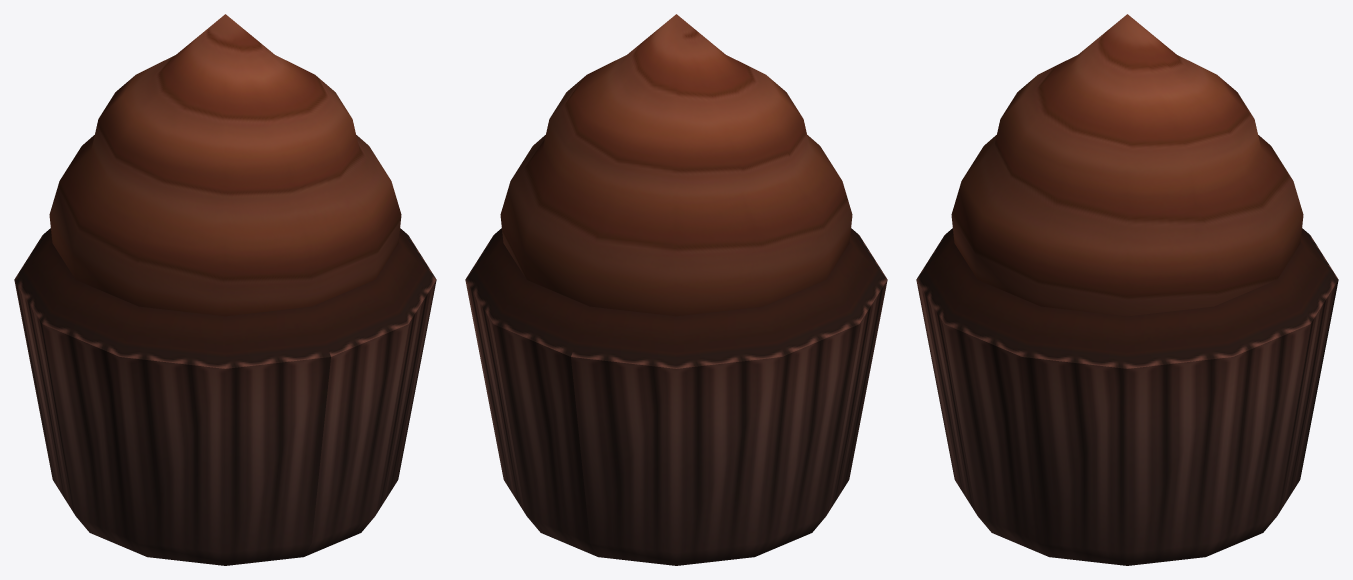
File: 009-Cupcakes_006.FBX
The picture shows the model from 3 angles, left to right: view 1: azimuth 30°, elevation 25°; view 2: azimuth 150°, elevation 25°; view 3: azimuth 270°, elevation 25°; orthographic projection.
Visible parts, largest first — view 1: 009-Cupcakes_006; view 2: 009-Cupcakes_006; view 3: 009-Cupcakes_006.
Part boxes in pixels (x1,y1,x2,y2): 009-Cupcakes_006: (14, 14, 436, 565); 009-Cupcakes_006: (465, 14, 887, 565); 009-Cupcakes_006: (916, 14, 1338, 565).
Bounding box in the file's own units: 12.34 × 15.65 × 12.34.
